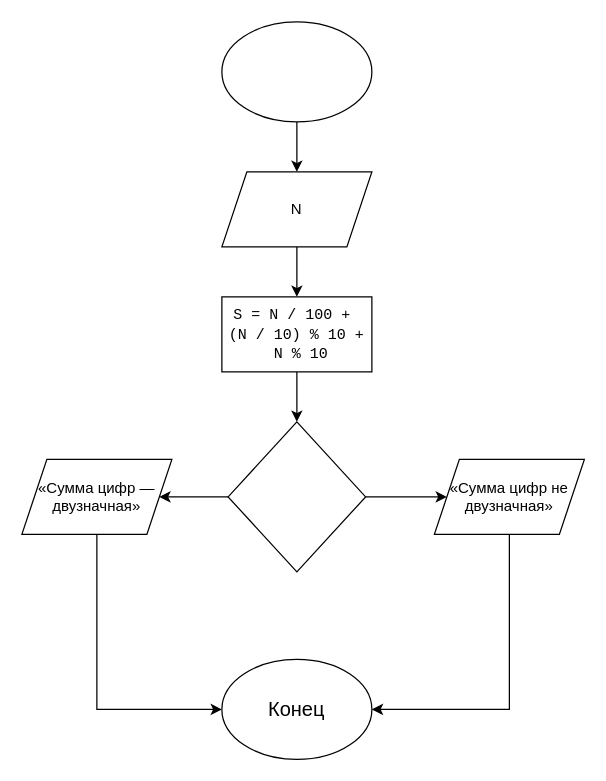
Some shapes in this 606 by 781 pixel diagram are drawn without their labels. Here are the shapes that lost their labels. From the top down, the centre of each, then its label:
(296,71): Начало
(296,496): S >= 10 && S <= 99?
